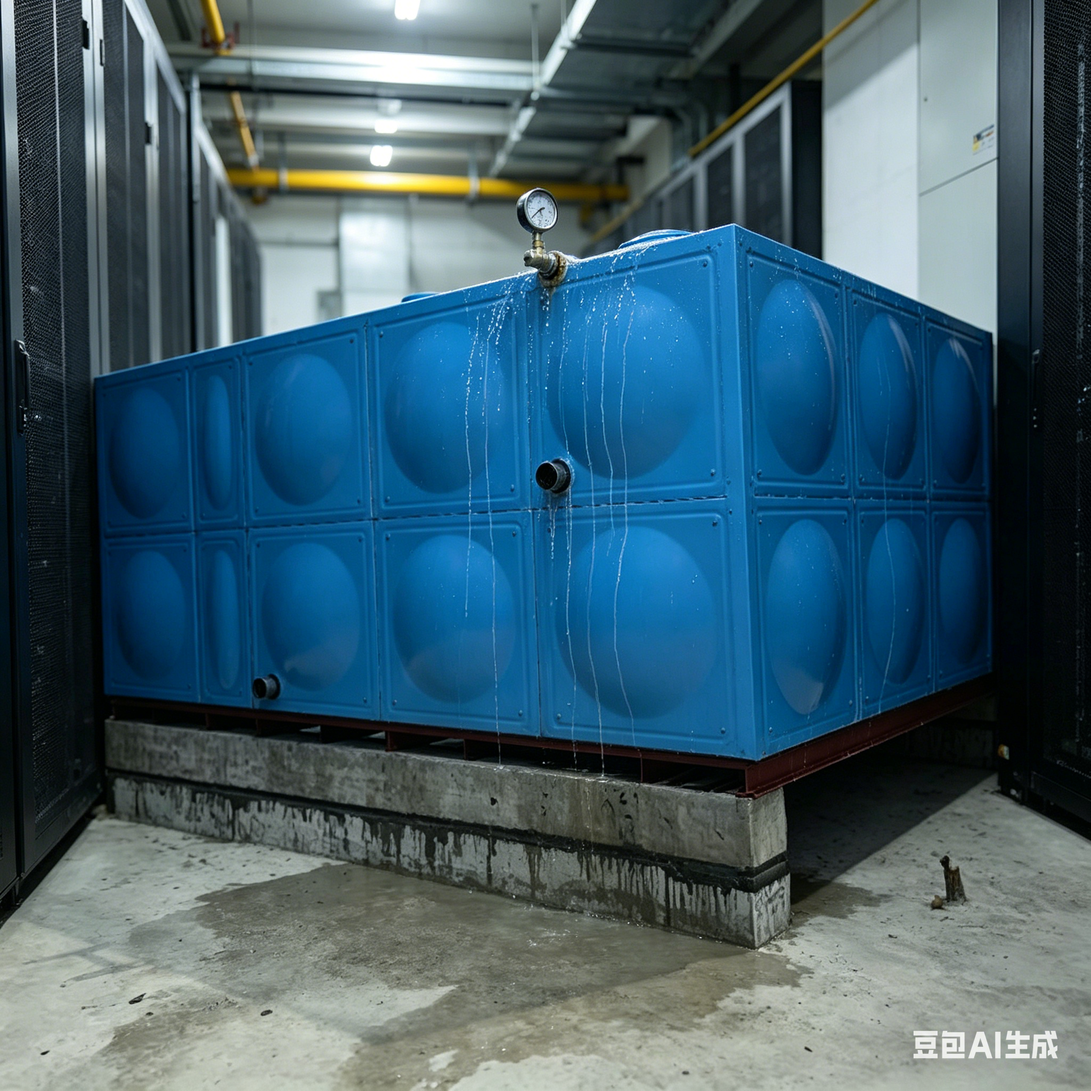Leakage: (283, 872, 788, 1013), (558, 263, 644, 826), (459, 273, 545, 802), (162, 908, 275, 1033)
